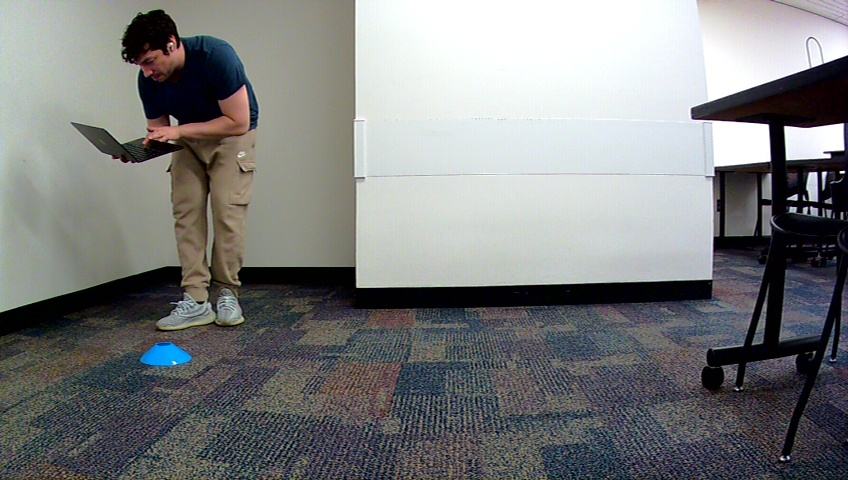cone: (139, 341, 193, 366)
